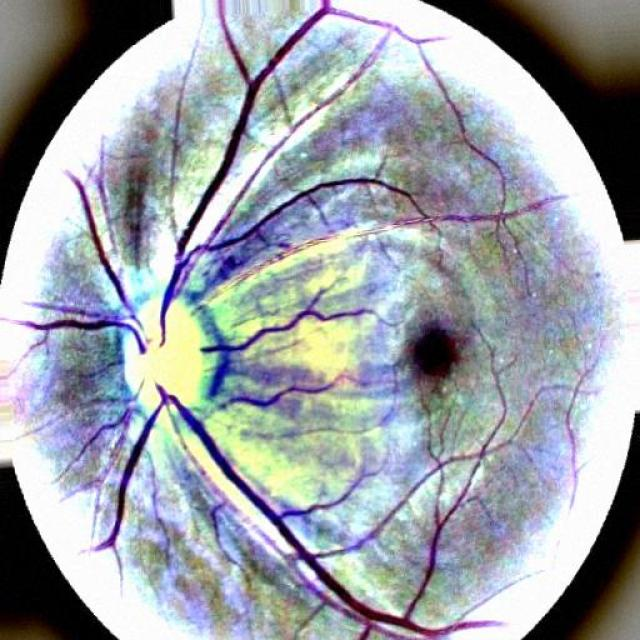Macula: (397, 318, 466, 408)
Nerves: (199, 429, 365, 605), (164, 96, 258, 267), (74, 182, 127, 296), (107, 436, 157, 542), (29, 310, 97, 338)
Optic Disk: (105, 287, 234, 437)
